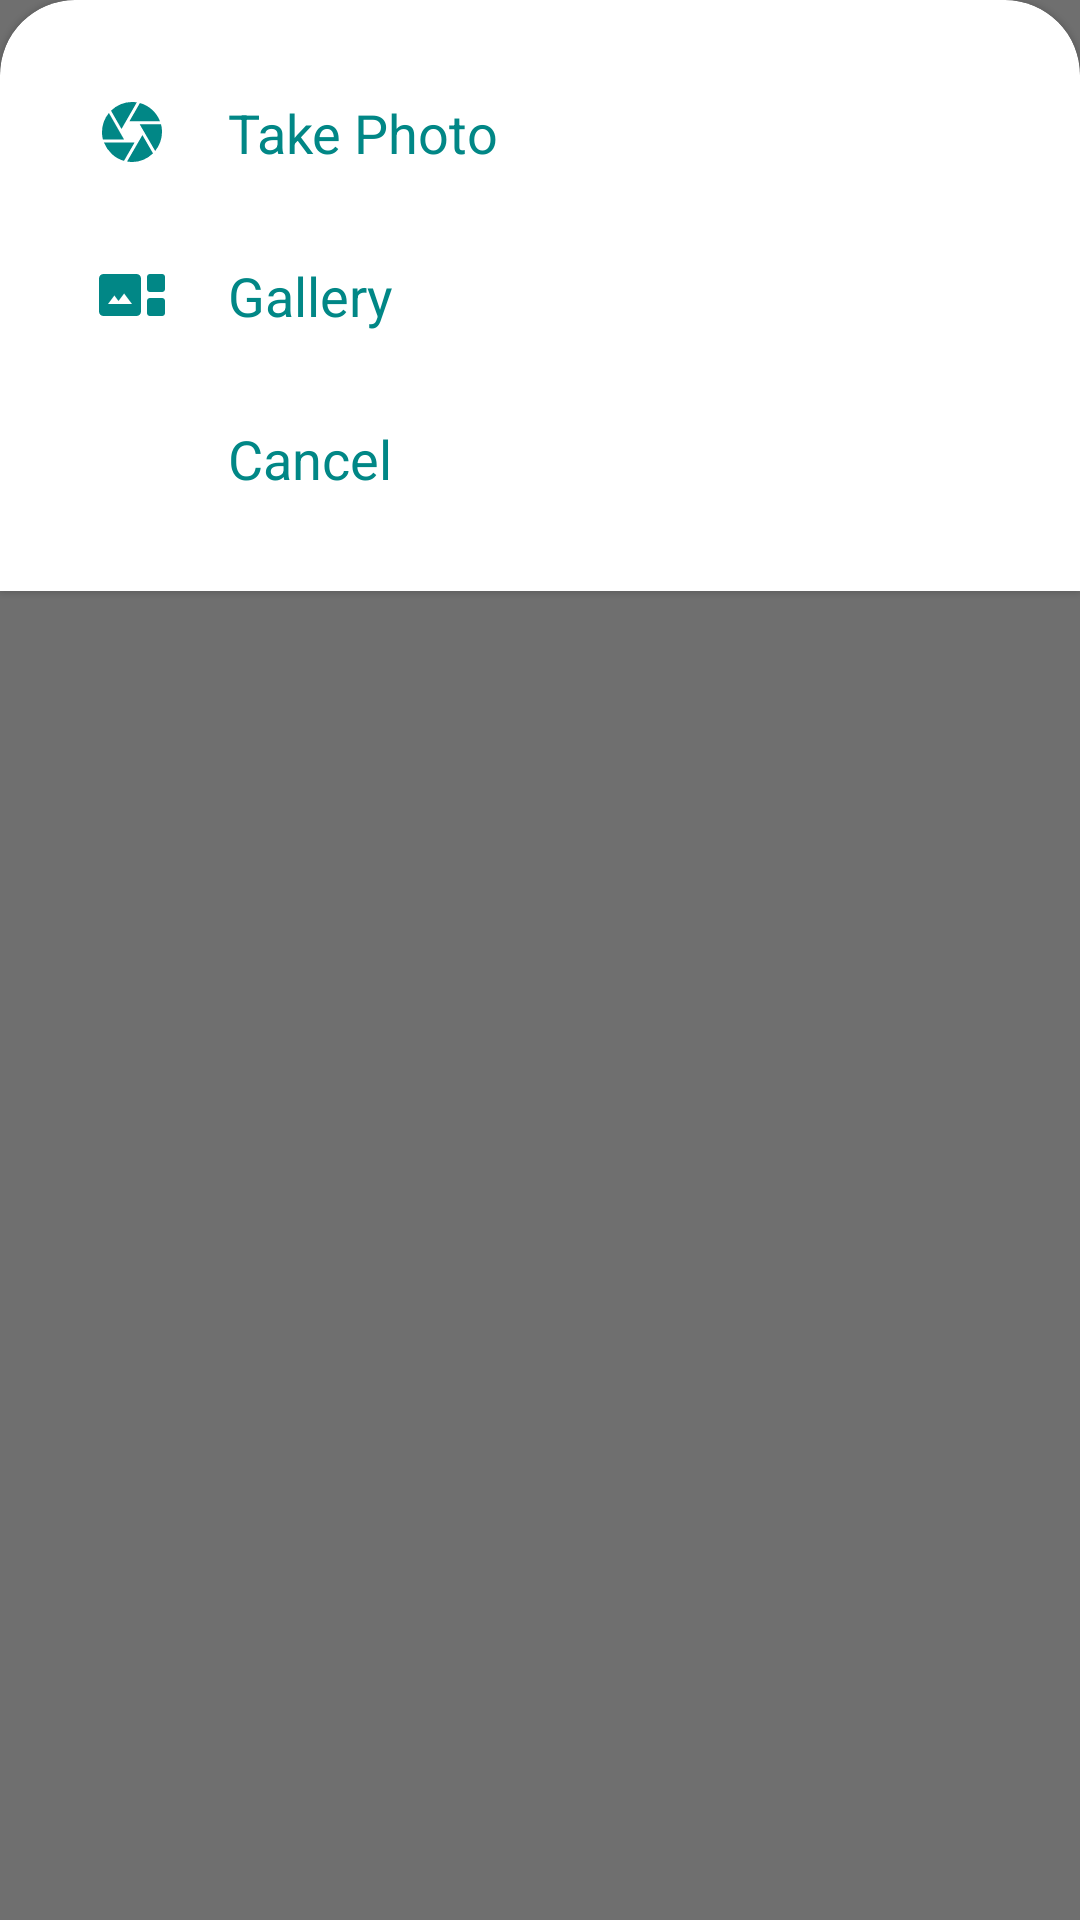

Point at icon controls on the screen. Image size 1080w x 1920h, points as (x=x, y=y).
camera: (x=132, y=132)
